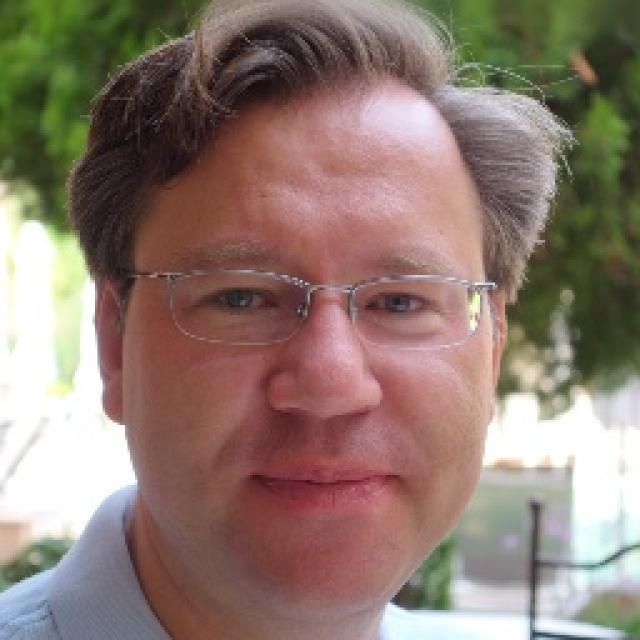earlobe: (100, 376, 126, 426)
eye: (207, 282, 279, 320), (364, 288, 436, 321)
nose: (263, 407, 393, 450)
wholeear: (94, 269, 125, 425)
